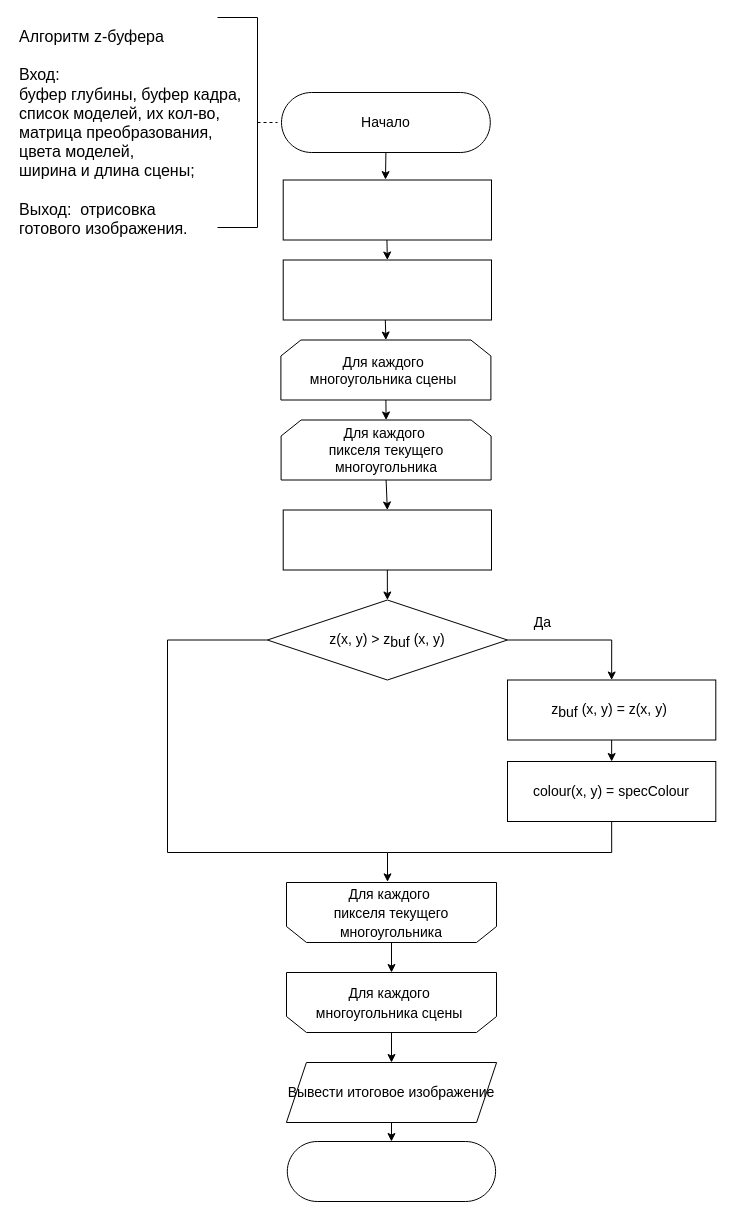
This 733x1219 diagram has some shape labels left out. Each missing label, with the centre of its shape:
"Всем элементам буфера кадра присвоить фоновое значение" goes at point (387, 209).
"Вы числить глубину пикселя z ( x, y )" goes at point (387, 539).
"Инициализировать z-буфер минимальным значением глубины" goes at point (387, 289).
"Конец" goes at point (391, 1171).
